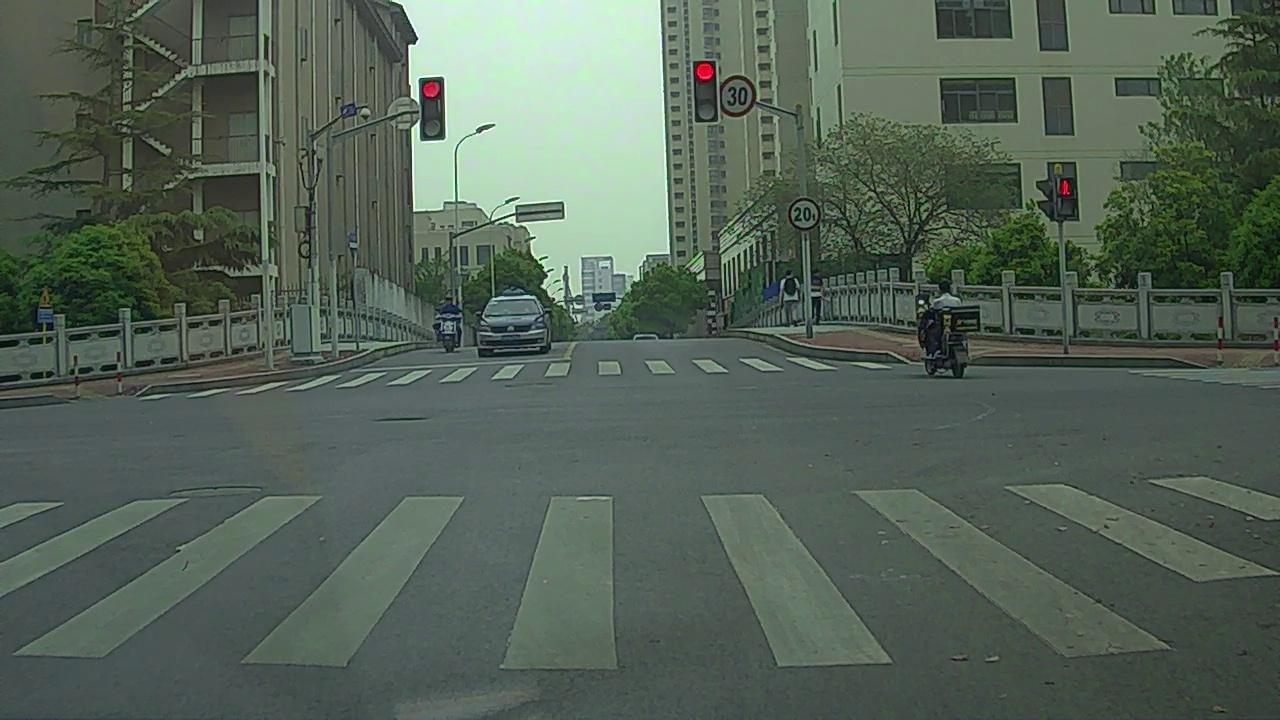traffic_light: (694, 59, 718, 123), (419, 81, 444, 139)
